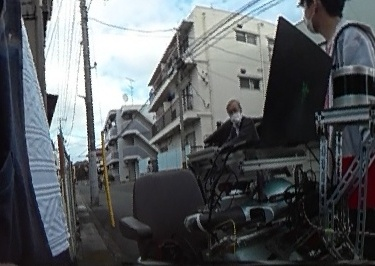person: (303, 0, 375, 151), (219, 101, 254, 143)
